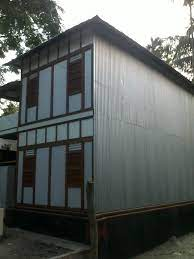Tin-shade House: (6, 18, 184, 241)
